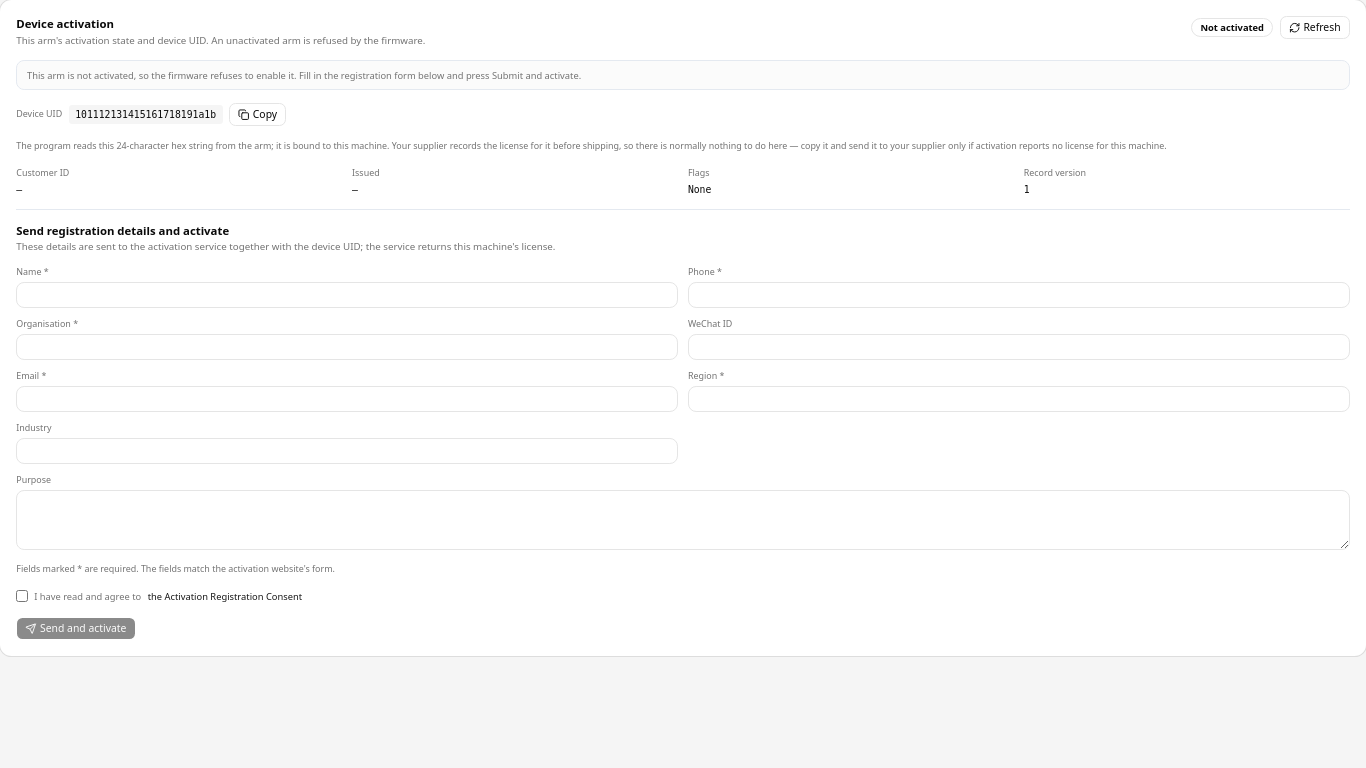
Scenario: ActivationSection › spells out every item the request carries inside the consent document
What coordinates should you click on to do the following:
click the button with test id "activation-consent-open"
I would click on:
 (225, 596)
Its box is [148,590,302,603].
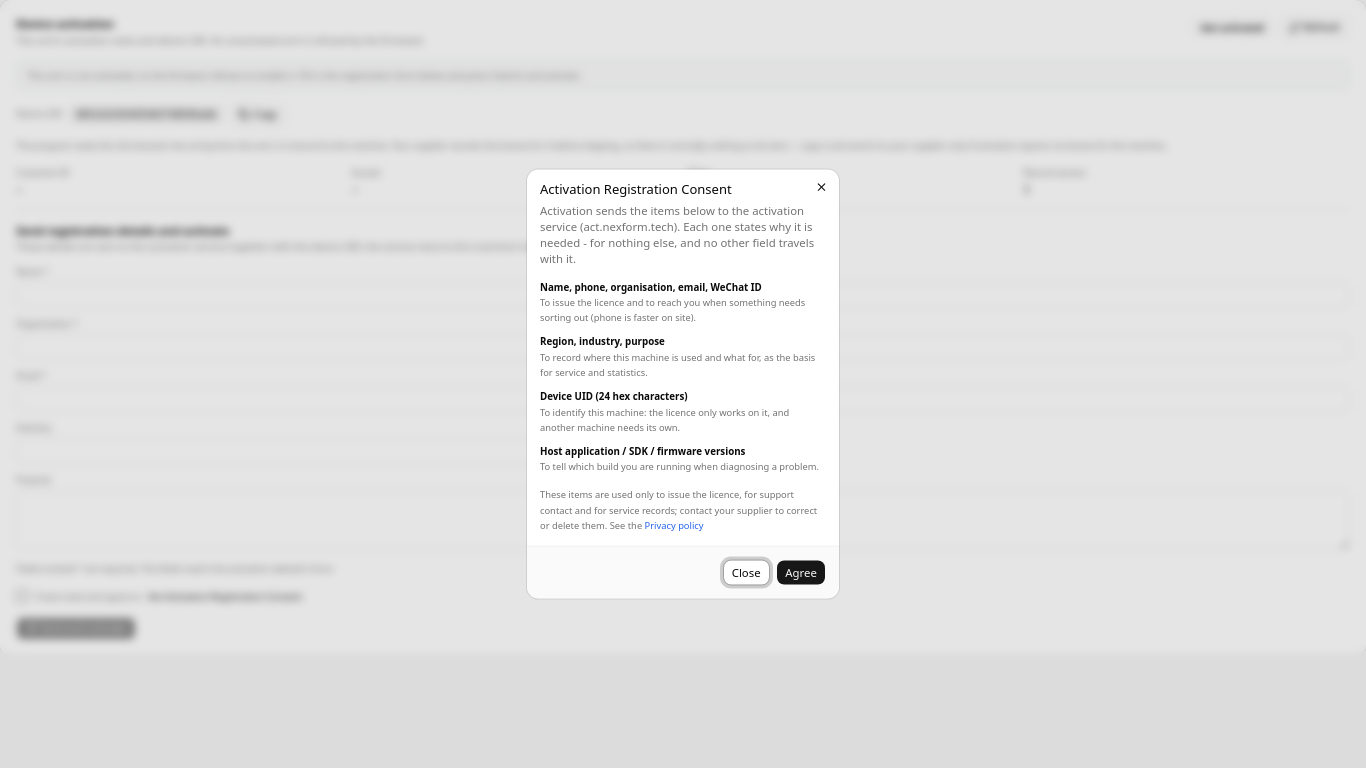
Expected: the number of list items is 4, [540,280,826,325]; [540,335,826,380]; [540,390,826,434]; [540,444,826,474]
